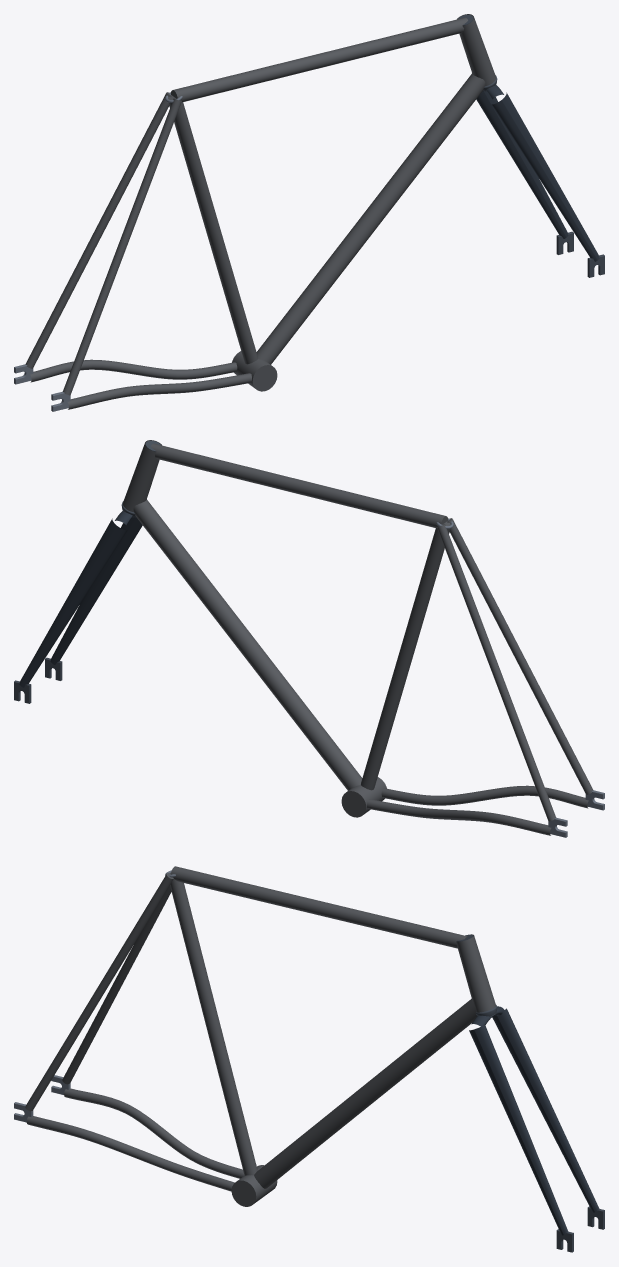
Rendered from wabi-prism-54.glb.
The picture shows the model from 3 angles, top to bottom: view 1: azimuth 30°, elevation 25°; view 2: azimuth 150°, elevation 25°; view 3: azimuth 330°, elevation 25°; orthographic projection.
Visible parts, largest first — view 1: paint_down, paint_top, paint_seat, paint_seatstay_1, paint_seatstay_-1, fork_blade_1, paint_chainstay_-1, fork_blade_-1, paint_chainstay_1, paint_head, paint_bottom_bracket; view 2: paint_down, paint_top, paint_seat, paint_seatstay_-1, paint_seatstay_1, fork_blade_-1, paint_chainstay_1, fork_blade_1, paint_chainstay_-1, paint_head, paint_bottom_bracket; view 3: paint_down, paint_seat, paint_top, fork_blade_1, fork_blade_-1, paint_seatstay_1, paint_chainstay_1, paint_chainstay_-1, paint_seatstay_-1, paint_head, paint_bottom_bracket.
Part boxes in pixels (x1=…): paint_down: x1=256, y1=73, x2=485, y2=364; paint_top: x1=170, y1=17, x2=467, y2=101; paint_seat: x1=168, y1=95, x2=257, y2=364; paint_seatstay_1: x1=63, y1=98, x2=181, y2=395; paint_seatstay_-1: x1=25, y1=92, x2=171, y2=368; fork_blade_1: x1=491, y1=92, x2=599, y2=261; paint_chainstay_-1: x1=30, y1=359, x2=237, y2=382; fork_blade_-1: x1=476, y1=91, x2=568, y2=238; paint_chainstay_1: x1=67, y1=373, x2=252, y2=409; paint_head: x1=457, y1=14, x2=495, y2=86; paint_bottom_bracket: x1=232, y1=351, x2=277, y2=391; paint_down: x1=133, y1=499, x2=362, y2=790; paint_top: x1=151, y1=443, x2=448, y2=527; paint_seat: x1=361, y1=521, x2=450, y2=790; paint_seatstay_-1: x1=437, y1=524, x2=555, y2=821; paint_seatstay_1: x1=447, y1=518, x2=593, y2=794; fork_blade_-1: x1=19, y1=518, x2=127, y2=687; paint_chainstay_1: x1=381, y1=785, x2=588, y2=808; fork_blade_1: x1=50, y1=517, x2=142, y2=664; paint_chainstay_-1: x1=366, y1=799, x2=551, y2=835; paint_head: x1=123, y1=440, x2=161, y2=512; paint_bottom_bracket: x1=341, y1=777, x2=386, y2=817; paint_down: x1=254, y1=998, x2=476, y2=1188; paint_seat: x1=170, y1=872, x2=257, y2=1175; paint_top: x1=170, y1=866, x2=467, y2=948; fork_blade_1: x1=469, y1=1024, x2=568, y2=1235; fork_blade_-1: x1=492, y1=1008, x2=599, y2=1212; paint_seatstay_1: x1=25, y1=873, x2=173, y2=1111; paint_chainstay_1: x1=26, y1=1116, x2=234, y2=1191; paint_chainstay_-1: x1=64, y1=1088, x2=244, y2=1178; paint_seatstay_-1: x1=62, y1=885, x2=171, y2=1084; paint_head: x1=456, y1=934, x2=495, y2=1012; paint_bottom_bracket: x1=231, y1=1165, x2=277, y2=1206.
Bounding box in the file's own units: 1.03 × 0.5579 × 0.1396.
